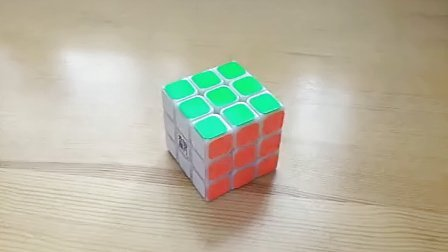cube: (156, 61, 291, 203)
